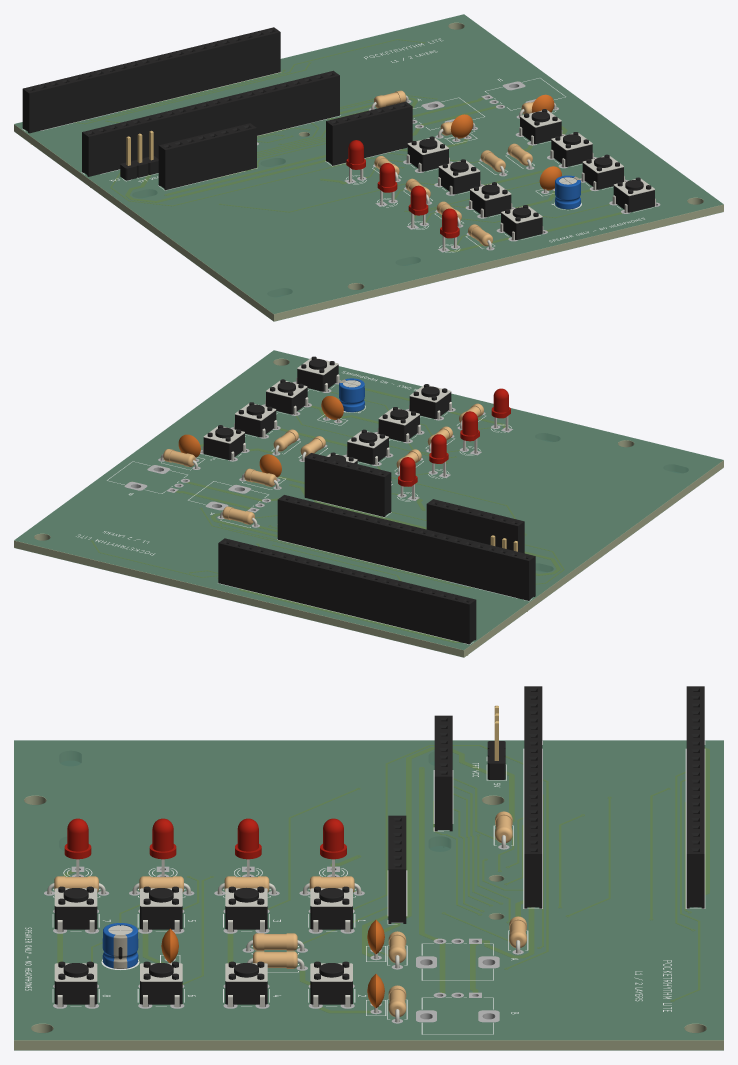
File: pocket-rhythm.glb
3 renders of one model, top to bottom at view 1: azimuth 30°, elevation 25°; view 2: azimuth 150°, elevation 25°; view 3: azimuth 270°, elevation 25°, orthographic. The views are drawn at different scales.
Visible parts, largest first — view 1: =>[0:1:1:24], =>[0:1:1:26], =>[0:1:1:5] (×2), =>[0:1:1:15] (×8), =>[0:1:1:19], =>[0:1:1:11], =>[0:1:1:7] (×4), =>[0:1:1:20], =>[0:1:1:23], =>[0:1:1:21], =>[0:1:1:13], =>[0:1:1:17] (+1 smaller); view 2: =>[0:1:1:24], =>[0:1:1:26], =>[0:1:1:5] (×2), =>[0:1:1:15] (×7), =>[0:1:1:11], =>[0:1:1:19], =>[0:1:1:7] (×4), =>[0:1:1:21], =>[0:1:1:23], =>[0:1:1:20], =>[0:1:1:17], =>[0:1:1:25]; view 3: =>[0:1:1:24], =>[0:1:1:26], =>[0:1:1:15] (×8), =>[0:1:1:5] (×2), =>[0:1:1:20], =>[0:1:1:3] (×6), =>[0:1:1:23], =>[0:1:1:7] (×4), =>[0:1:1:21], =>[0:1:1:19], =>[0:1:1:11], =>[0:1:1:17] (+2 smaller).
Part boxes in pixels (x1=…): =>[0:1:1:24]: x1=14, y1=14, x2=723, y2=313; =>[0:1:1:26]: x1=14, y1=15, x2=723, y2=321; =>[0:1:1:5] (×2): x1=22, y1=27, x2=339, y2=187; =>[0:1:1:15] (×8): x1=406, y1=109, x2=655, y2=240; =>[0:1:1:19]: x1=158, y1=123, x2=256, y2=190; =>[0:1:1:11]: x1=326, y1=101, x2=412, y2=165; =>[0:1:1:7] (×4): x1=346, y1=140, x2=459, y2=250; =>[0:1:1:20]: x1=82, y1=40, x2=621, y2=251; =>[0:1:1:23]: x1=22, y1=38, x2=653, y2=252; =>[0:1:1:21]: x1=257, y1=81, x2=660, y2=252; =>[0:1:1:13]: x1=120, y1=130, x2=158, y2=180; =>[0:1:1:17]: x1=555, y1=175, x2=580, y2=209; =>[0:1:1:24]: x1=14, y1=350, x2=723, y2=649; =>[0:1:1:26]: x1=14, y1=351, x2=723, y2=657; =>[0:1:1:5] (×2): x1=218, y1=495, x2=535, y2=655; =>[0:1:1:15] (×7): x1=202, y1=356, x2=451, y2=465; =>[0:1:1:11]: x1=304, y1=453, x2=391, y2=516; =>[0:1:1:19]: x1=426, y1=499, x2=524, y2=553; =>[0:1:1:7] (×4): x1=398, y1=388, x2=510, y2=499; =>[0:1:1:21]: x1=124, y1=380, x2=512, y2=527; =>[0:1:1:23]: x1=76, y1=371, x2=532, y2=644; =>[0:1:1:20]: x1=92, y1=388, x2=563, y2=642; =>[0:1:1:17]: x1=339, y1=378, x2=364, y2=412; =>[0:1:1:25]: x1=15, y1=468, x2=722, y2=657; =>[0:1:1:24]: x1=14, y1=740, x2=723, y2=1040; =>[0:1:1:26]: x1=14, y1=741, x2=723, y2=1050; =>[0:1:1:15] (×8): x1=54, y1=886, x2=352, y2=1007; =>[0:1:1:5] (×2): x1=524, y1=686, x2=704, y2=908; =>[0:1:1:20]: x1=58, y1=745, x2=709, y2=1012; =>[0:1:1:3] (×6): x1=47, y1=876, x2=361, y2=969; =>[0:1:1:23]: x1=25, y1=740, x2=705, y2=1034; =>[0:1:1:7] (×4): x1=64, y1=818, x2=346, y2=876; =>[0:1:1:21]: x1=44, y1=830, x2=697, y2=1023; =>[0:1:1:19]: x1=434, y1=715, x2=452, y2=831; =>[0:1:1:11]: x1=388, y1=815, x2=406, y2=923; =>[0:1:1:17]: x1=102, y1=923, x2=138, y2=968.
Bounding box in the file's own units: 0.1 × 0.012 × 0.1.
